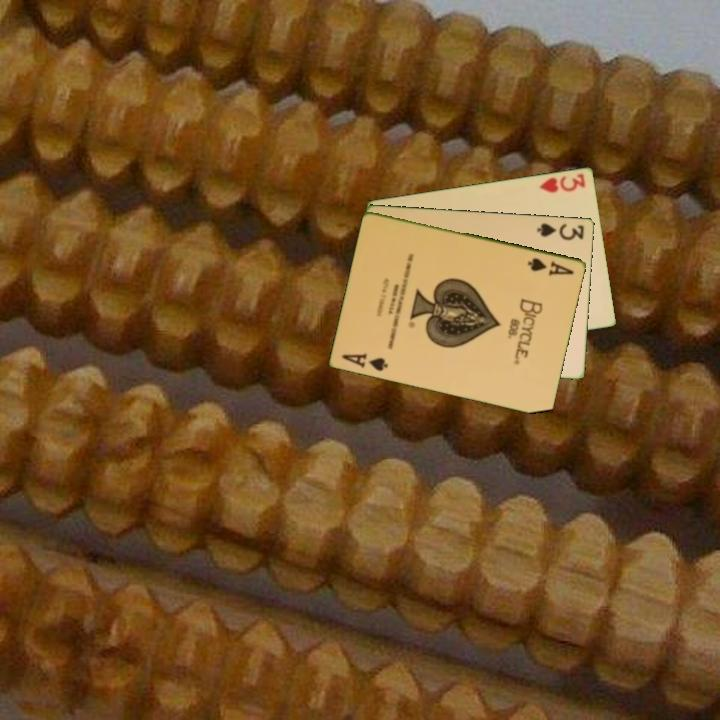3h: (536, 170, 588, 195)
3s: (534, 219, 587, 243)
As: (524, 254, 577, 278), (339, 350, 391, 374)
